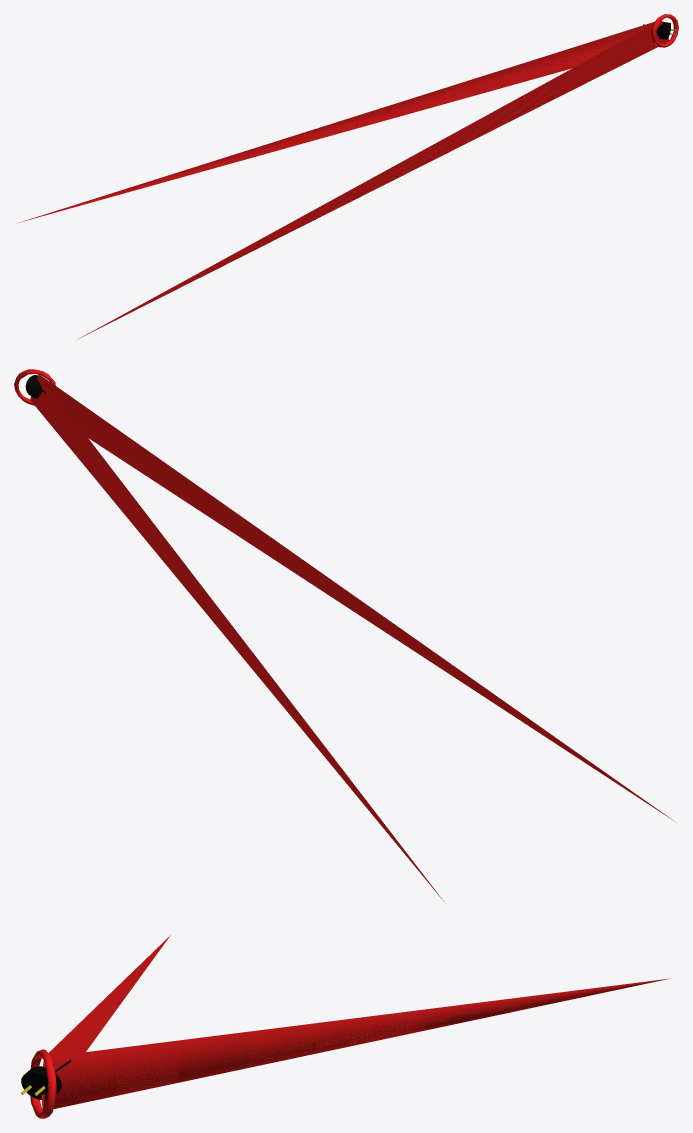
Rendered from plug.fbx.
3 views of the same model, one above another, from view 1: azimuth 30°, elevation 25°; view 2: azimuth 150°, elevation 25°; view 3: azimuth 270°, elevation 25° (orthographic). The views are drawn at different scales.
Parts seen in each view (by area): view 1: polySurface83; view 2: polySurface83; view 3: polySurface83.
Part boxes in pixels (<box>): polySurface83: <box>18,14,678,338</box>; polySurface83: <box>14,369,674,903</box>; polySurface83: <box>21,935,669,1118</box>.
Size of the model in its own units: 582 by 206 by 286.
